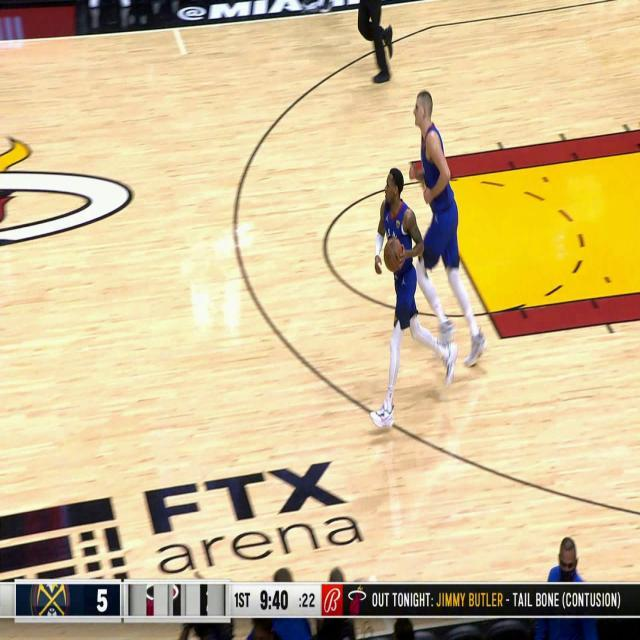rim: (384, 240, 402, 270)
